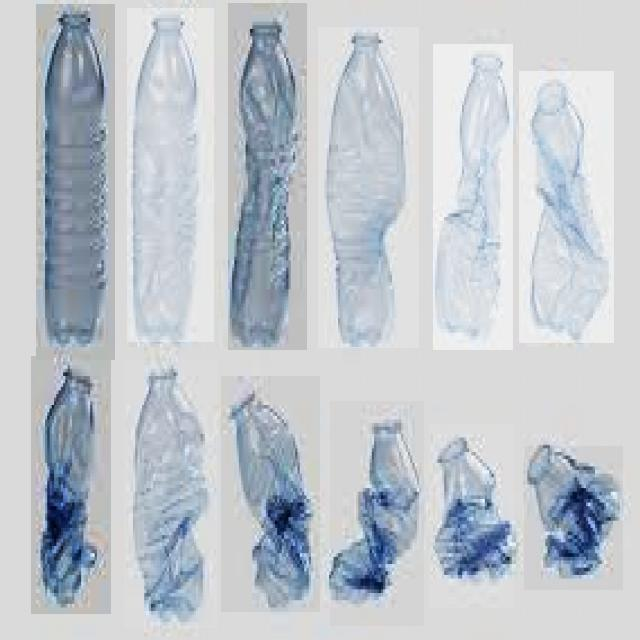defected: (314, 28, 415, 349), (127, 9, 215, 342), (228, 3, 307, 350), (520, 71, 616, 343), (124, 360, 218, 628), (433, 44, 513, 350), (221, 376, 320, 612), (330, 401, 424, 626), (31, 356, 111, 614), (430, 424, 516, 608), (524, 446, 623, 590)
good: (37, 4, 116, 360)
